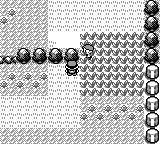captura: (80, 33, 143, 96)
main: (65, 61, 79, 75)
no-caminable: (144, 65, 159, 143), (143, 0, 159, 64), (16, 48, 79, 64)
npc: (81, 44, 94, 58)
salto: (0, 56, 16, 64)
